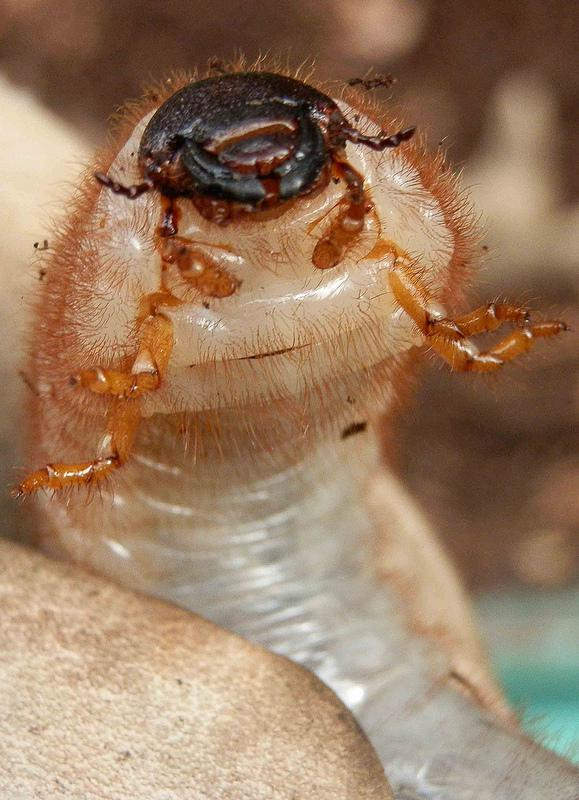grub: (38, 38, 544, 660)
